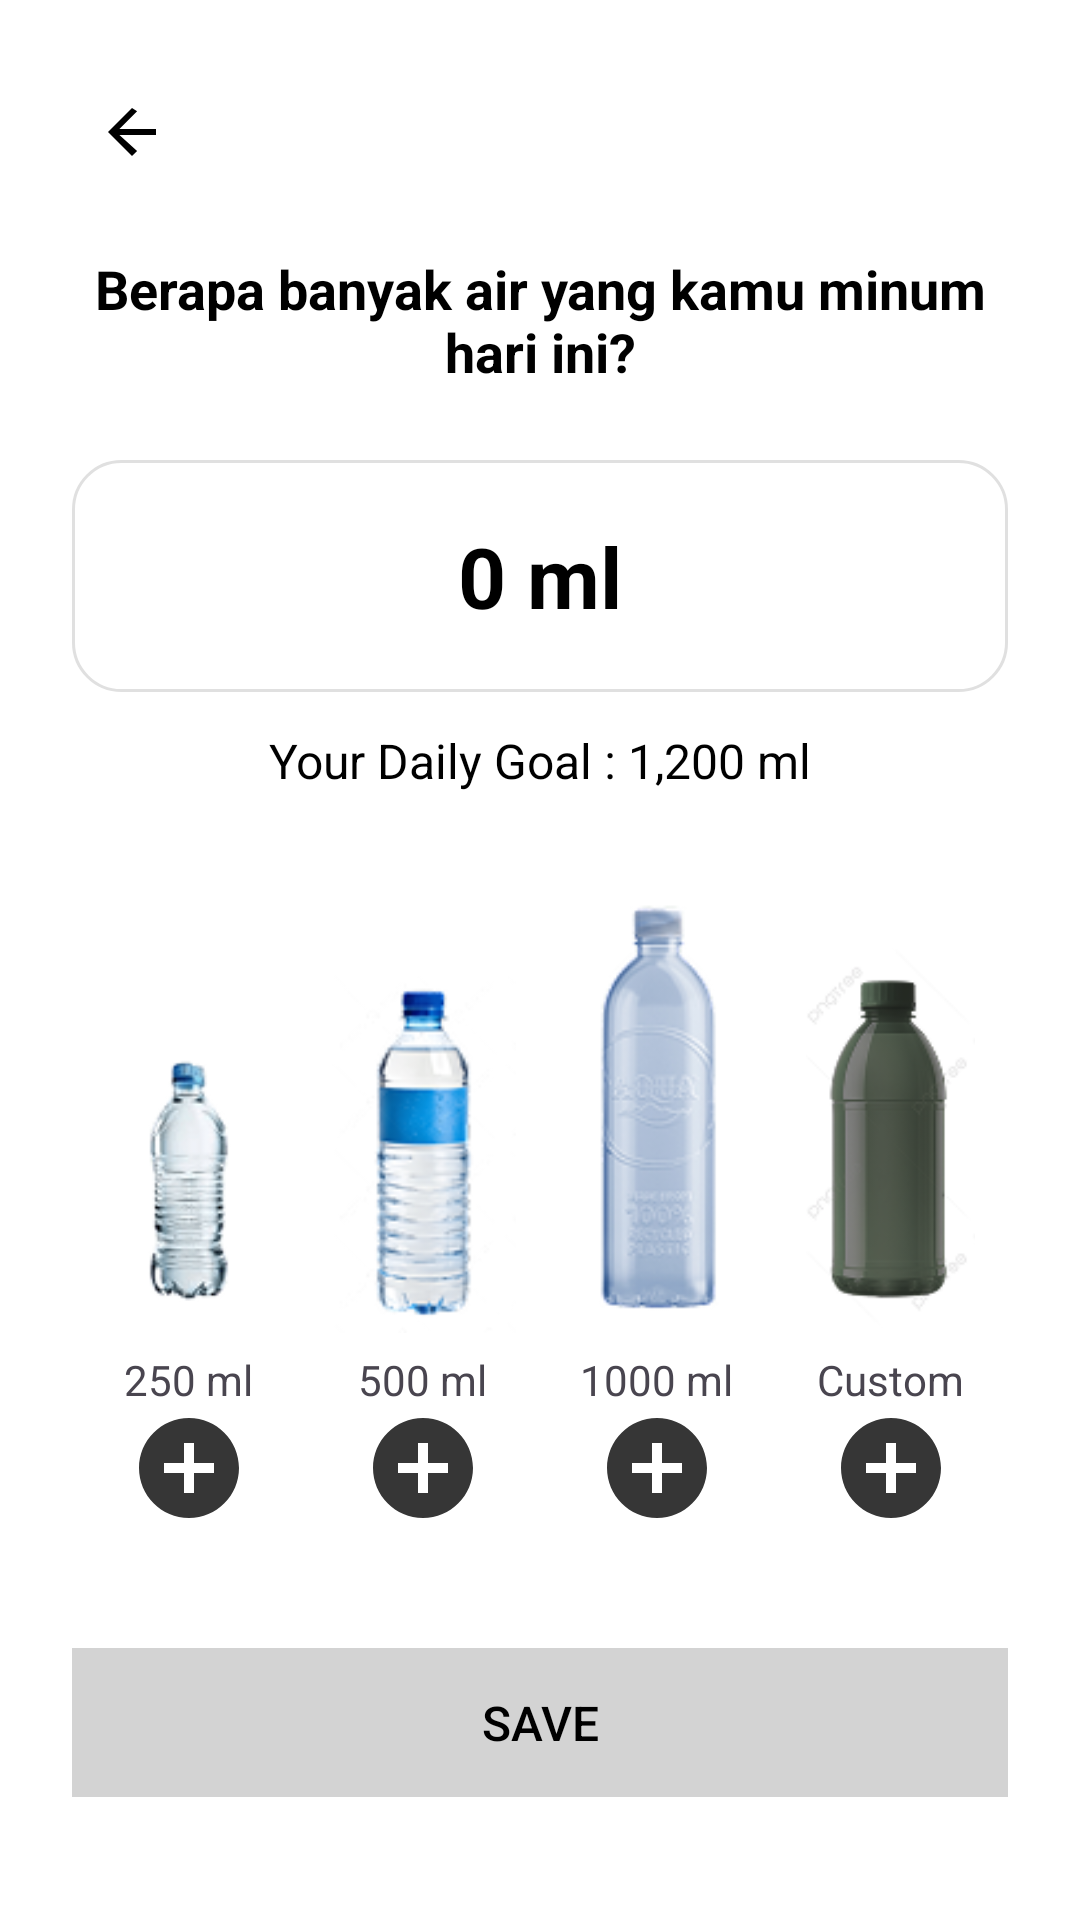

Icon bounding boxes for this 1080w x 1920h phone screenshot, format (x1, y1, x2, y2):
arrow back: (108, 108, 156, 156)
bottle medium: (376, 990, 471, 1315)
